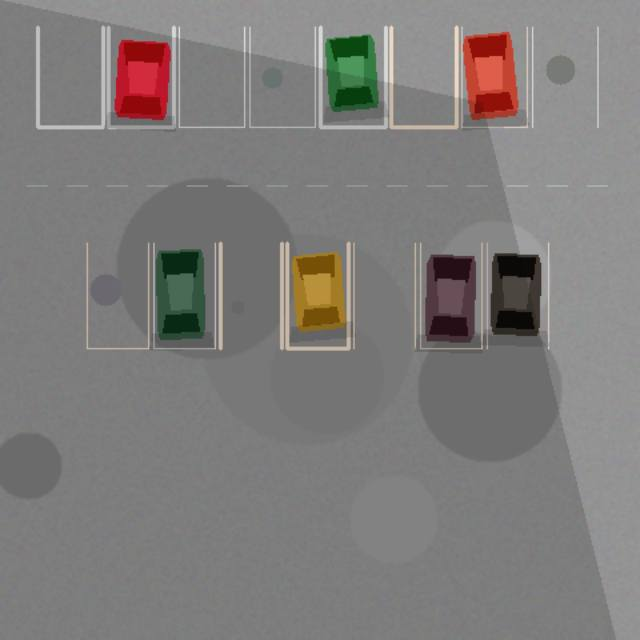space-empty: (37, 27, 103, 127), (249, 27, 315, 127), (353, 243, 415, 348), (179, 27, 244, 127), (391, 27, 456, 127), (532, 27, 597, 127), (87, 243, 148, 348), (220, 243, 281, 348)
space-occupied: (461, 27, 527, 127), (153, 243, 215, 348), (108, 27, 173, 127), (320, 27, 385, 127), (287, 243, 348, 348), (420, 243, 481, 348), (487, 243, 548, 348)
